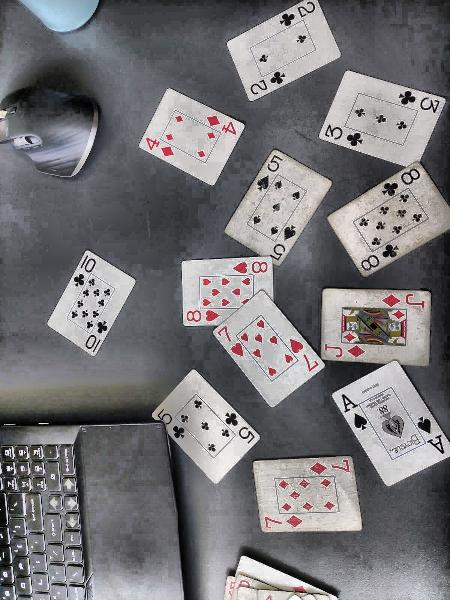10T: (73, 247, 102, 297), (84, 317, 110, 358)
2T: (272, 0, 326, 30), (244, 72, 292, 100)
3T: (394, 83, 450, 117), (320, 118, 369, 156)
4D: (201, 109, 246, 140), (138, 129, 181, 158)
5P: (270, 225, 298, 270), (259, 151, 285, 193)
5T: (215, 406, 263, 449), (155, 413, 196, 447)
7C: (285, 335, 322, 378), (210, 326, 248, 358)
7D: (256, 513, 317, 535), (307, 455, 361, 479)
8C: (182, 303, 225, 326), (229, 257, 276, 277)
8T: (375, 168, 430, 200), (350, 242, 403, 274)
AP: (410, 410, 450, 459), (335, 390, 374, 440)
JD: (321, 338, 369, 366), (376, 293, 430, 312)
